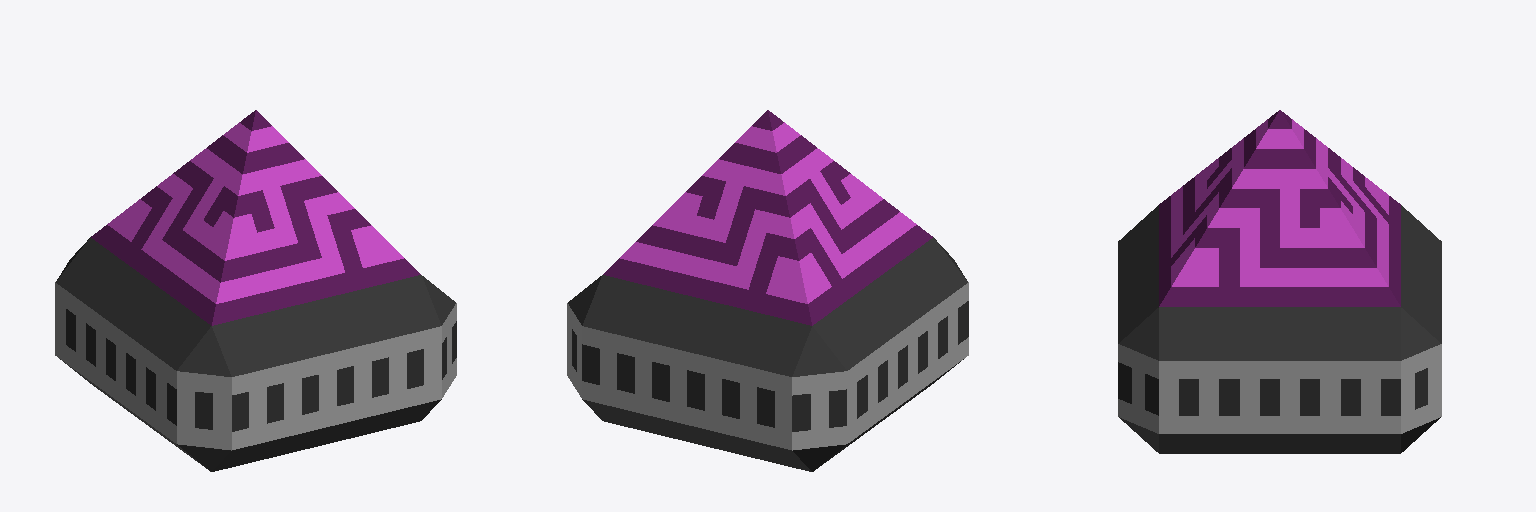
3 views of the same model, side by side, from view 1: azimuth 30°, elevation 25°; view 2: azimuth 150°, elevation 25°; view 3: azimuth 270°, elevation 25° (orthographic).
Visible parts, largest first — view 1: beveled_cuboid, pyramid; view 2: beveled_cuboid, pyramid; view 3: beveled_cuboid, pyramid.
Part boxes in pixels (x1,y1,x2,y2): beveled_cuboid: (55, 237, 456, 471); pyramid: (91, 110, 420, 325); beveled_cuboid: (567, 237, 968, 471); pyramid: (603, 110, 932, 325); beveled_cuboid: (1118, 205, 1441, 453); pyramid: (1159, 110, 1400, 306).
Size of the model in its own units: 1 by 1 by 1.
2 materials, 2 textured.